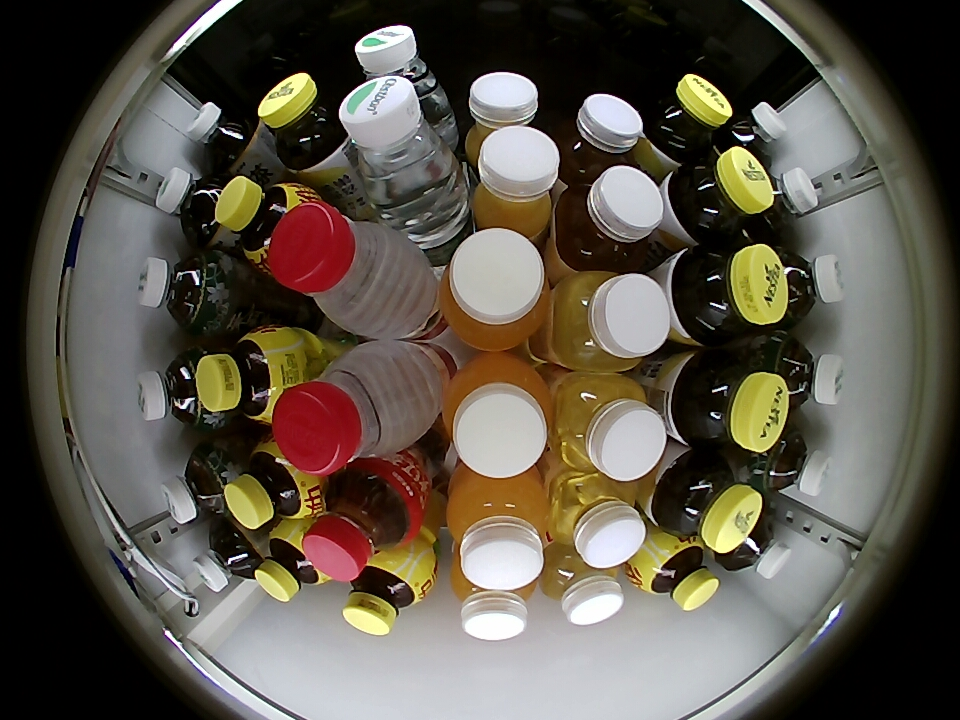binghongcha: (304, 460, 424, 582)
chacui: (669, 350, 788, 453), (672, 243, 788, 345), (652, 451, 762, 551), (668, 148, 773, 242), (258, 73, 350, 172), (643, 74, 731, 164)
chapai: (553, 166, 665, 272), (556, 94, 643, 183)
chapai2: (551, 372, 665, 482), (548, 270, 670, 371), (548, 469, 646, 569), (540, 546, 624, 626)
damaicha: (156, 167, 231, 246), (193, 522, 262, 592), (187, 101, 256, 167)
moliqingcha: (136, 252, 226, 333), (136, 348, 215, 429), (765, 335, 845, 412), (161, 444, 236, 524), (777, 247, 845, 330), (752, 427, 832, 497)
nfc: (469, 125, 561, 239), (462, 72, 543, 158)
nongfushanquan: (270, 202, 428, 338), (274, 342, 428, 476)
weic: (439, 229, 549, 351), (443, 355, 552, 478), (446, 469, 549, 591), (451, 561, 537, 640)
weitaningmeng-bottle: (196, 326, 304, 425), (215, 175, 320, 274), (223, 438, 319, 529), (342, 553, 432, 636), (634, 534, 719, 611), (256, 522, 329, 602)
wulongcha: (751, 166, 820, 236), (721, 509, 791, 578), (723, 101, 787, 160)
yibao: (339, 76, 461, 221), (354, 25, 449, 115)
